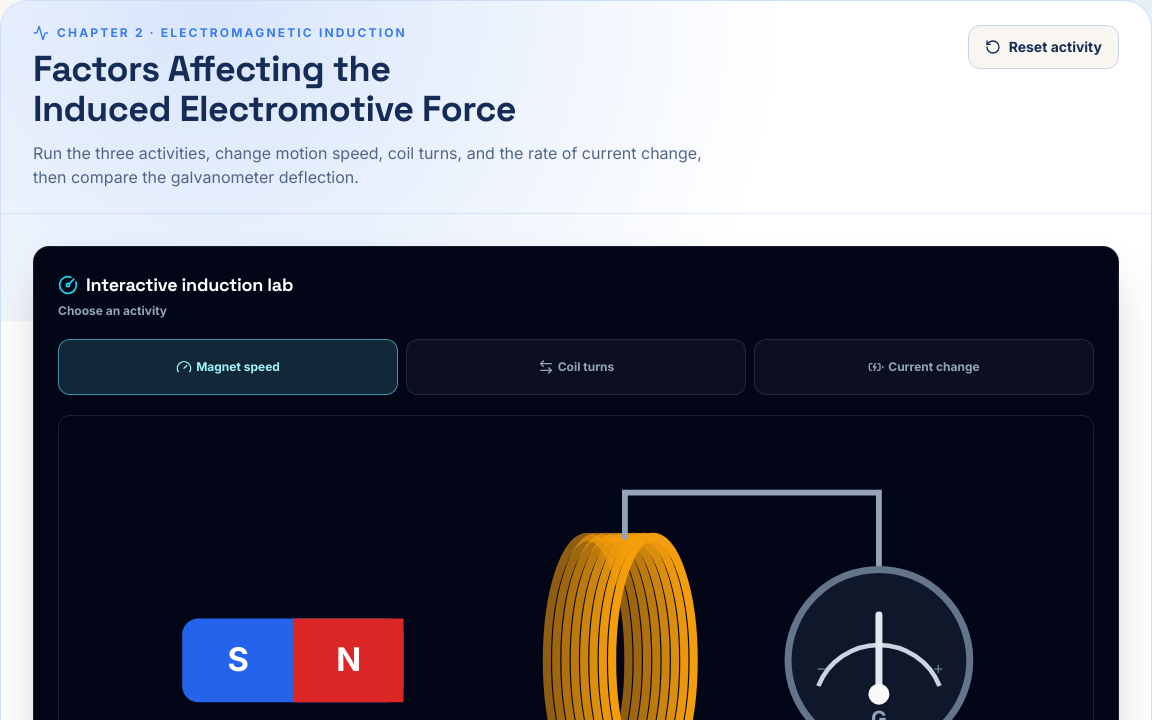
Test: InducedEmfFactorsActivity › lets the student compare all three induction factors
Click the button "Coil turns". click: (576, 367)
box: x1=406 y1=339 x2=746 y2=395
(page scrolled)
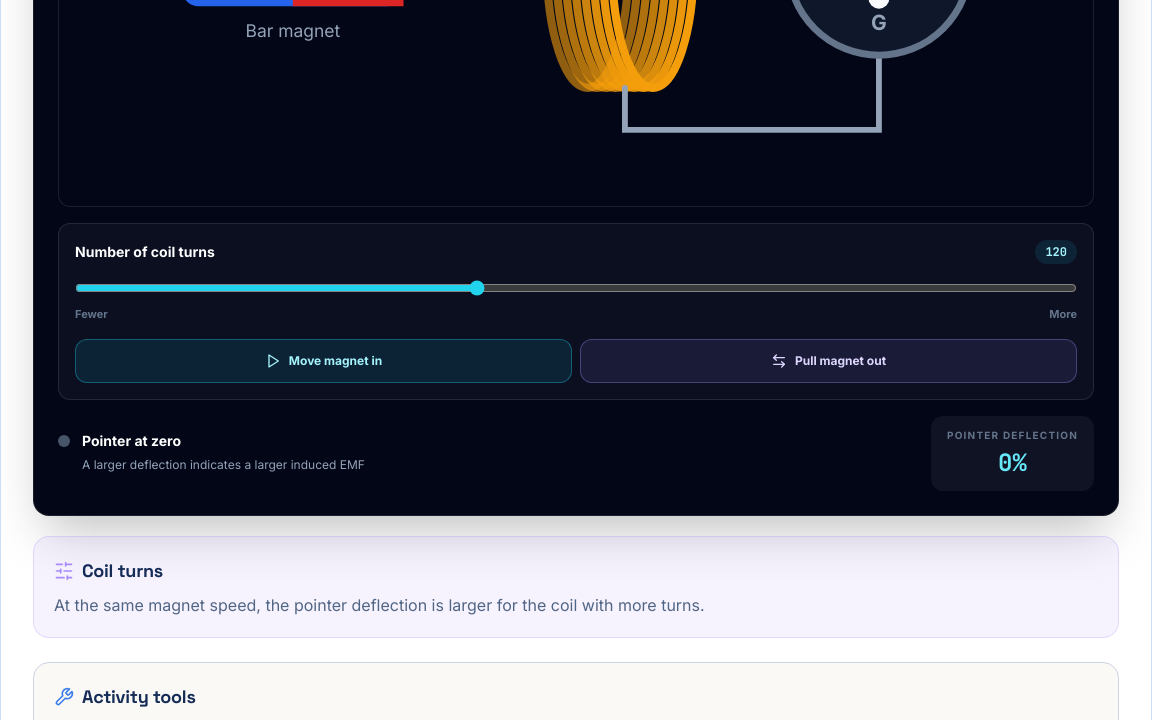
Click the button "Move magnet in". click: (324, 361)
box: x1=75 y1=339 x2=572 y2=383
(page scrolled)
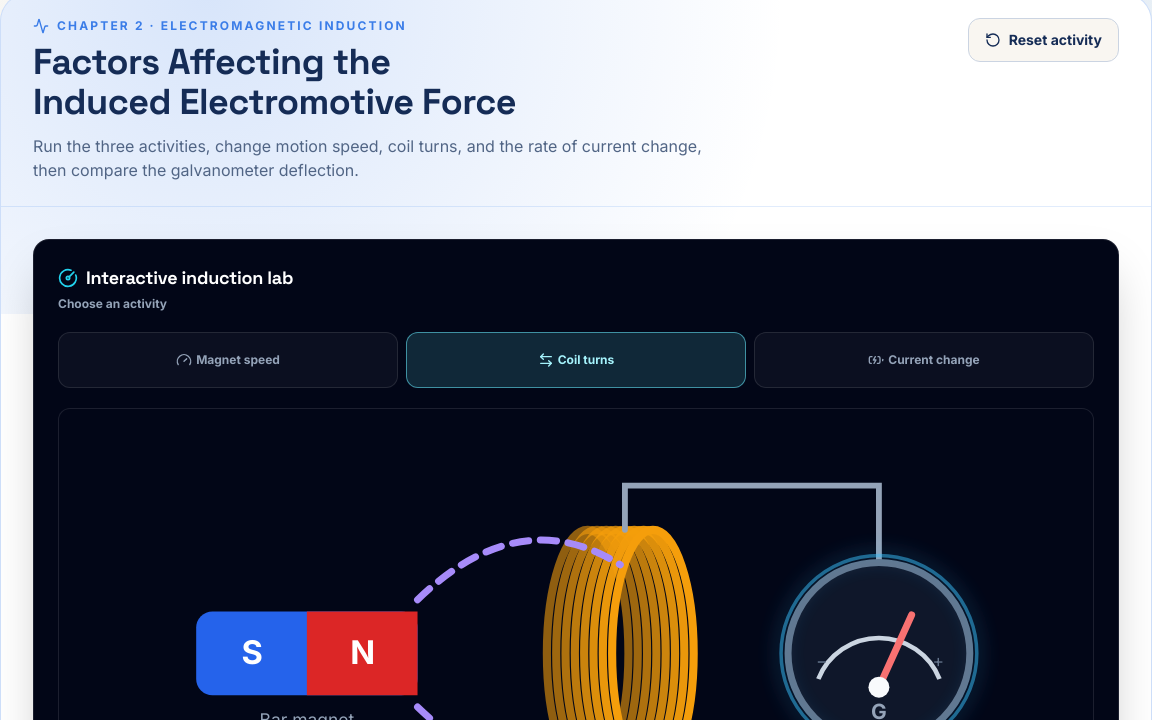
Click the button "Current change". click: (924, 360)
box: x1=754 y1=332 x2=1094 y2=388
(page scrolled)
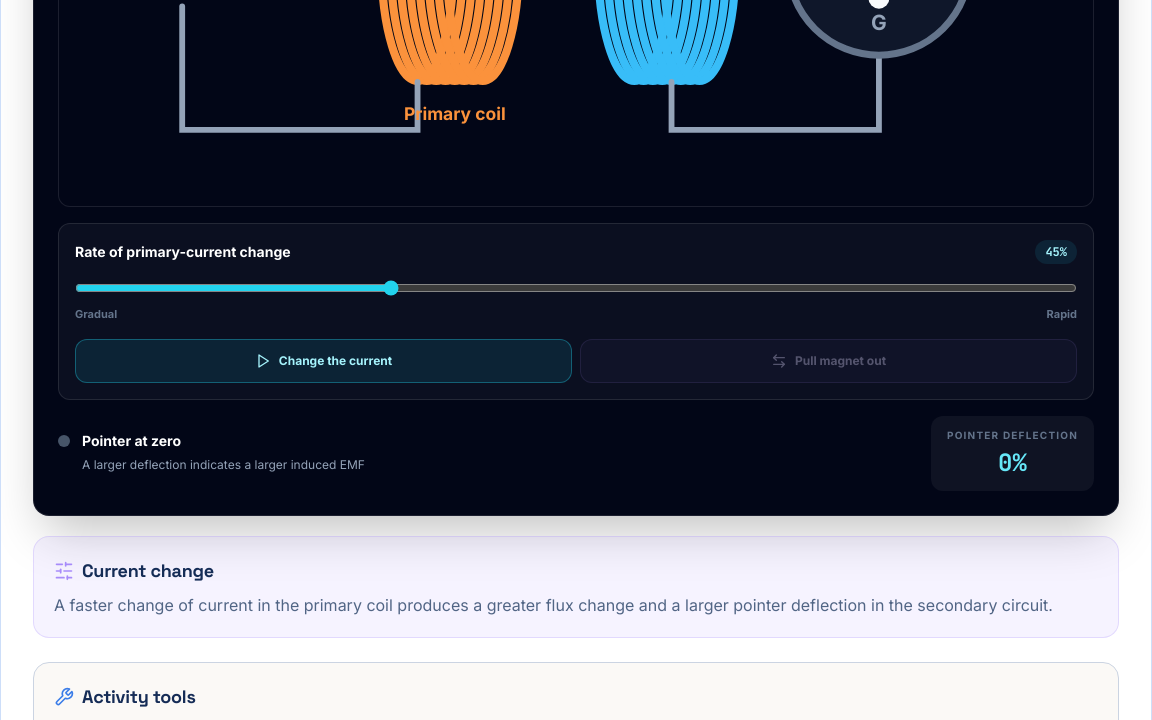
Expected: the button "Change the current" is enabled, x1=75 y1=339 x2=572 y2=383
Expected: the button "Pull magnet out" is disabled, x1=580 y1=339 x2=1077 y2=383
